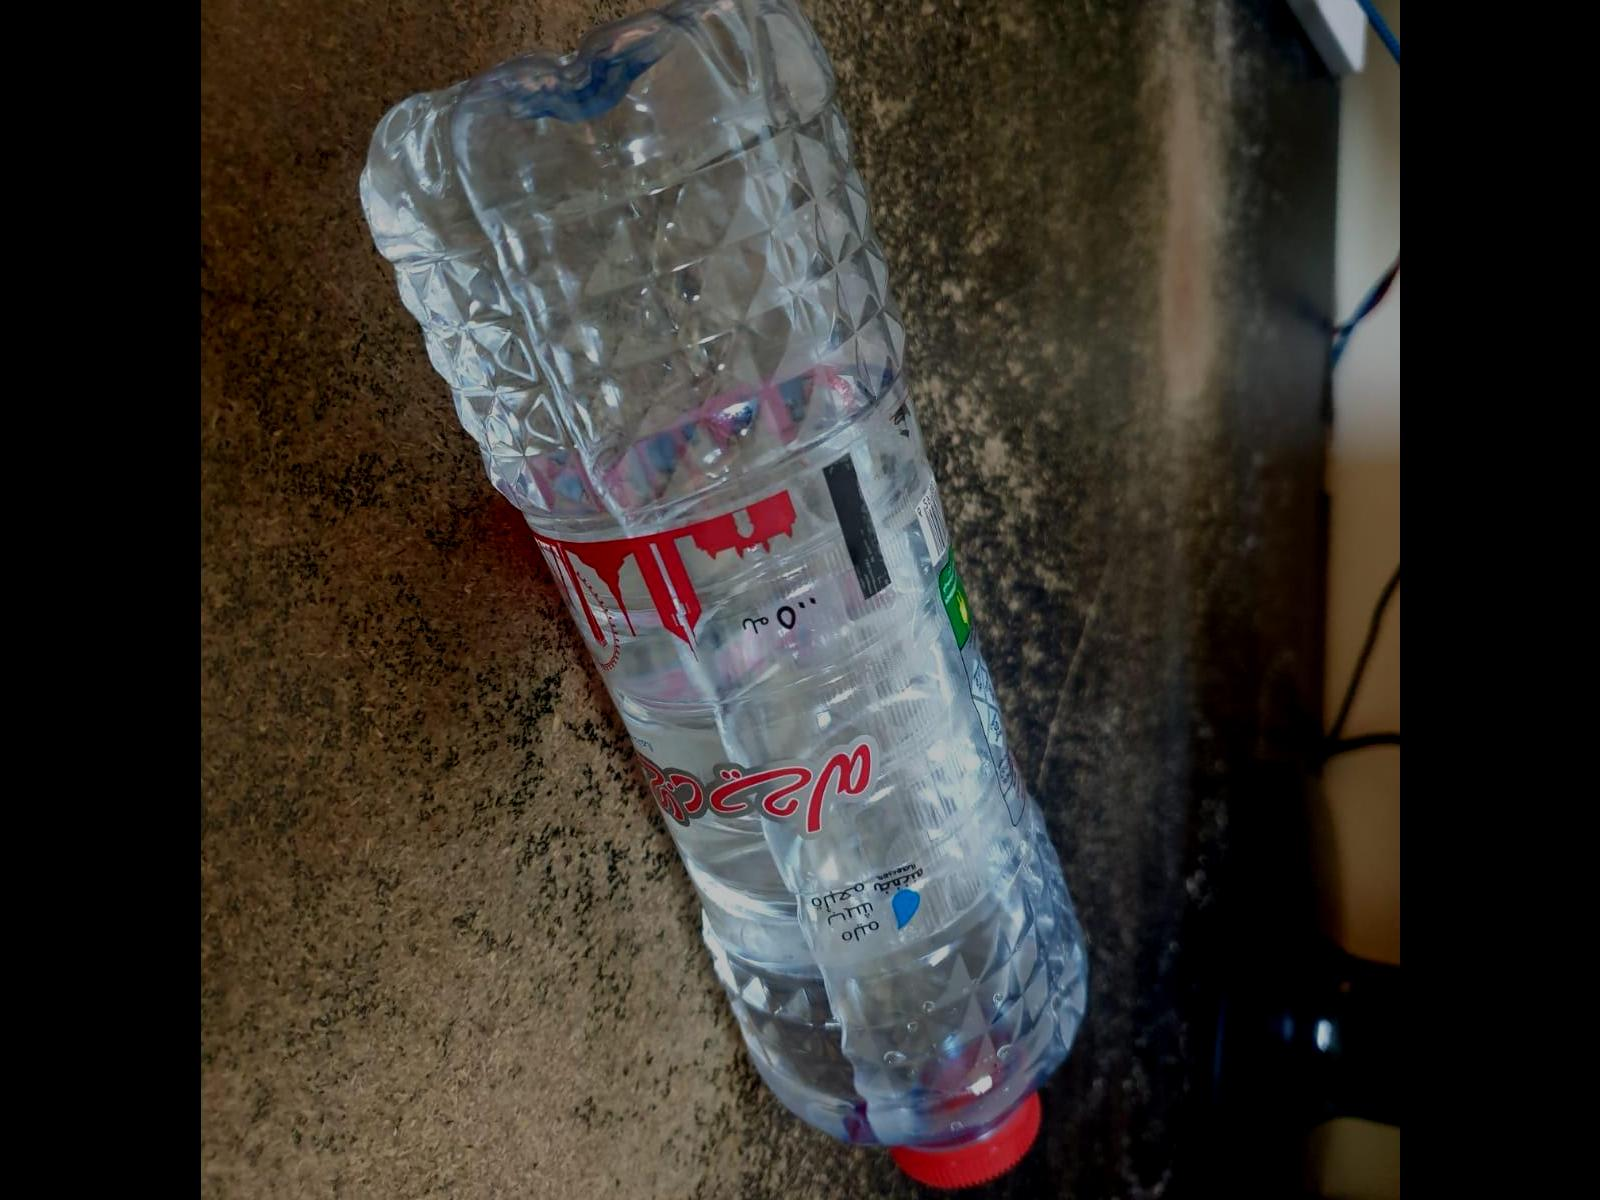bottle: (348, 0, 1092, 1193)
